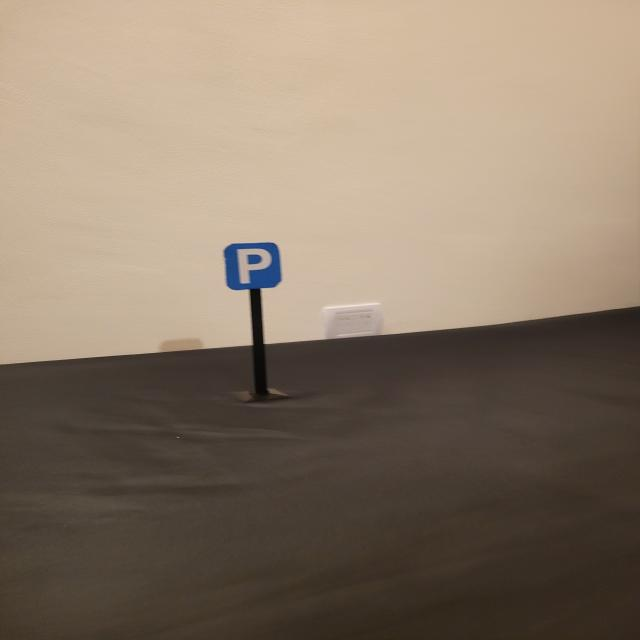parking: (222, 242, 284, 291)
